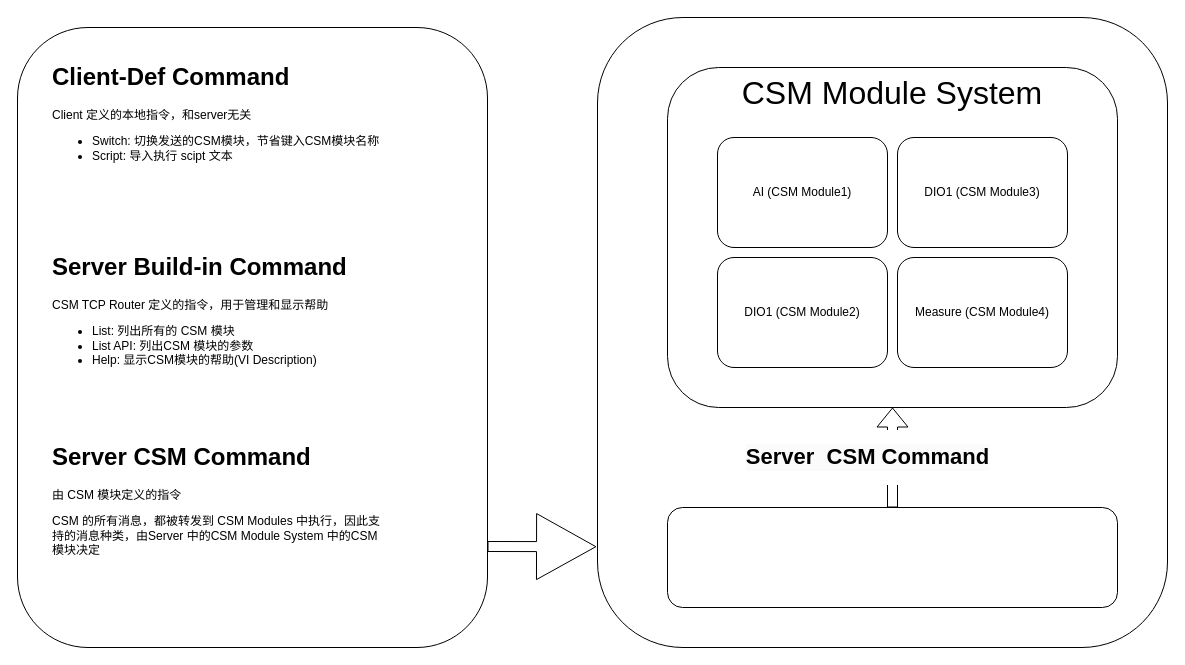
This 1185x665 diagram has some shape labels left out. The box of each missing label's shape, as (x1, y1, x2, y2) in pixels:
Client Application: (16, 26, 488, 648)
CSM TCP Router (based on JKI TCP Server): (666, 506, 1118, 608)
Server Application: (596, 16, 1168, 648)
